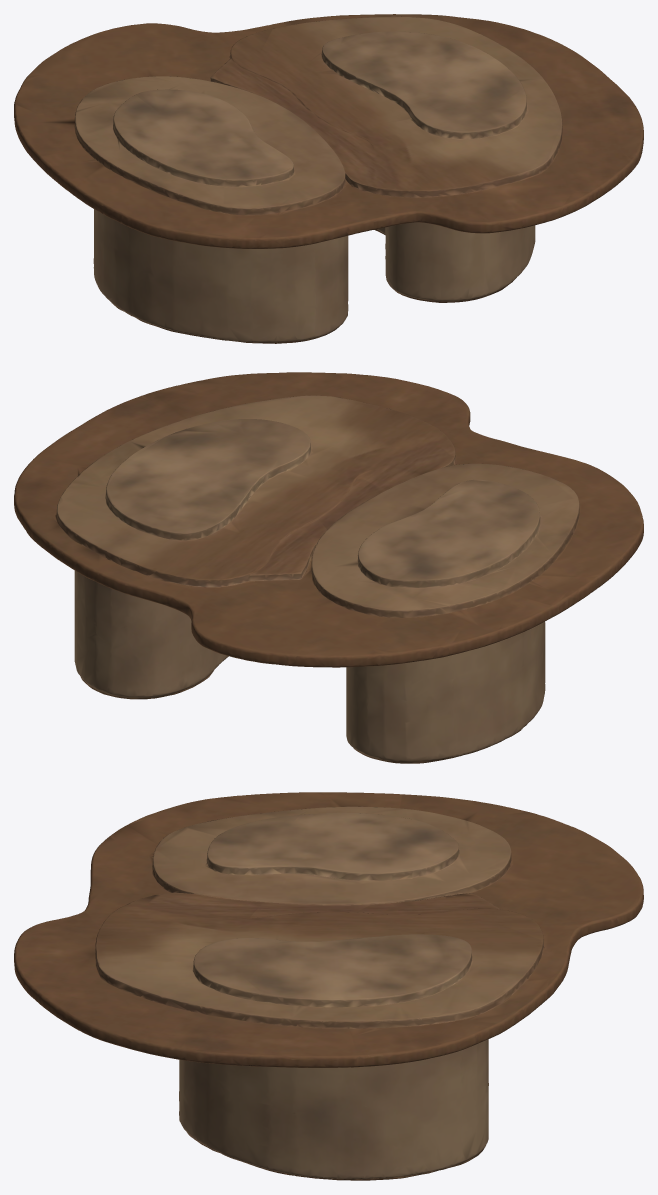
File: walnut-brass-coffee-table.glb
3 views of the same model, one above another, from view 1: azimuth 30°, elevation 25°; view 2: azimuth 150°, elevation 25°; view 3: azimuth 270°, elevation 25° (orthographic). The views are drawn at different scales.
Visible parts, largest first — view 1: world; view 2: world; view 3: world.
Boxes of the visible parts, left/top/right/bottom form: world: left=14, top=14, right=643, bottom=343; world: left=14, top=372, right=643, bottom=763; world: left=14, top=792, right=643, bottom=1180.
Size of the model in its own units: 0.9995 by 0.3015 by 1.
1 material, 1 textured.
